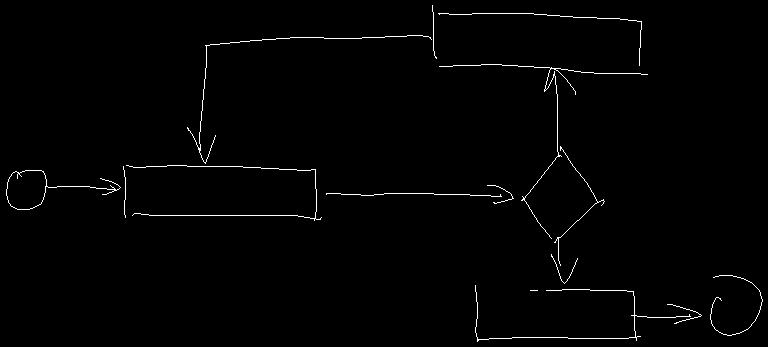arrow: (187, 35, 431, 163), (326, 185, 513, 203), (544, 67, 575, 156), (631, 304, 701, 323), (45, 178, 120, 194), (551, 237, 577, 283)
connection: (710, 275, 762, 335), (6, 170, 46, 209)
decision: (521, 146, 604, 239)
process: (432, 5, 647, 74), (123, 165, 321, 220), (475, 285, 640, 341)
